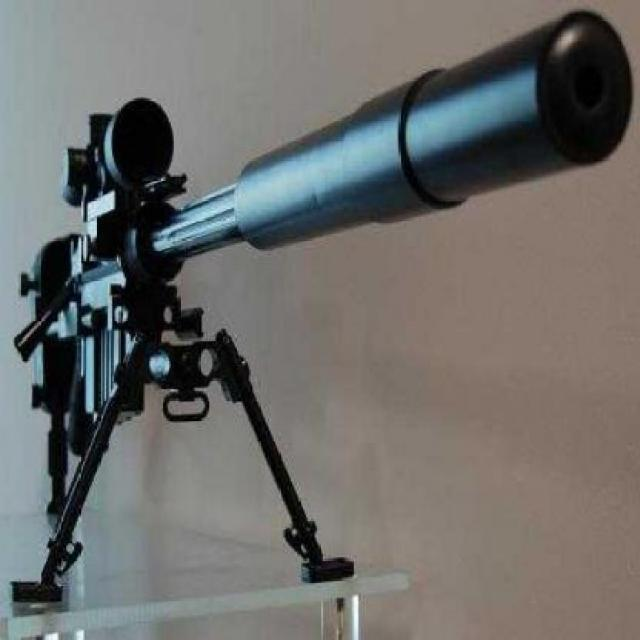weapon: (31, 13, 634, 589)
